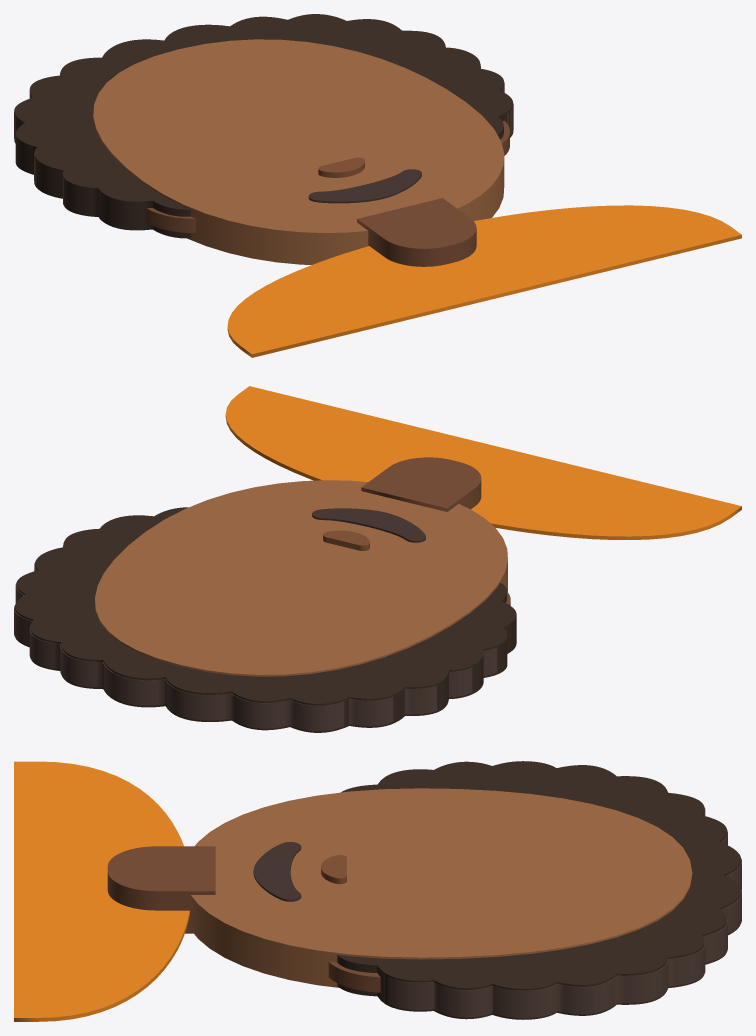
Rendered from emoji_u1f9d1_1f3fe_200d_1f9b1.glb.
The picture shows the model from 3 angles, top to bottom: view 1: azimuth 30°, elevation 25°; view 2: azimuth 150°, elevation 25°; view 3: azimuth 270°, elevation 25°; orthographic projection. The views are drawn at different scales.
Parts seen in each view (by area): view 1: emoji_u1f9d1_1f3fe_200d_1f9b1; view 2: emoji_u1f9d1_1f3fe_200d_1f9b1; view 3: emoji_u1f9d1_1f3fe_200d_1f9b1.
Boxes of the visible parts, x1=… form: emoji_u1f9d1_1f3fe_200d_1f9b1: x1=14, y1=14, x2=741, y2=357; emoji_u1f9d1_1f3fe_200d_1f9b1: x1=14, y1=386, x2=741, y2=732; emoji_u1f9d1_1f3fe_200d_1f9b1: x1=14, y1=761, x2=741, y2=1021.
Bounding box in the file's own units: 0.0284 × 0.0024 × 0.0341.
